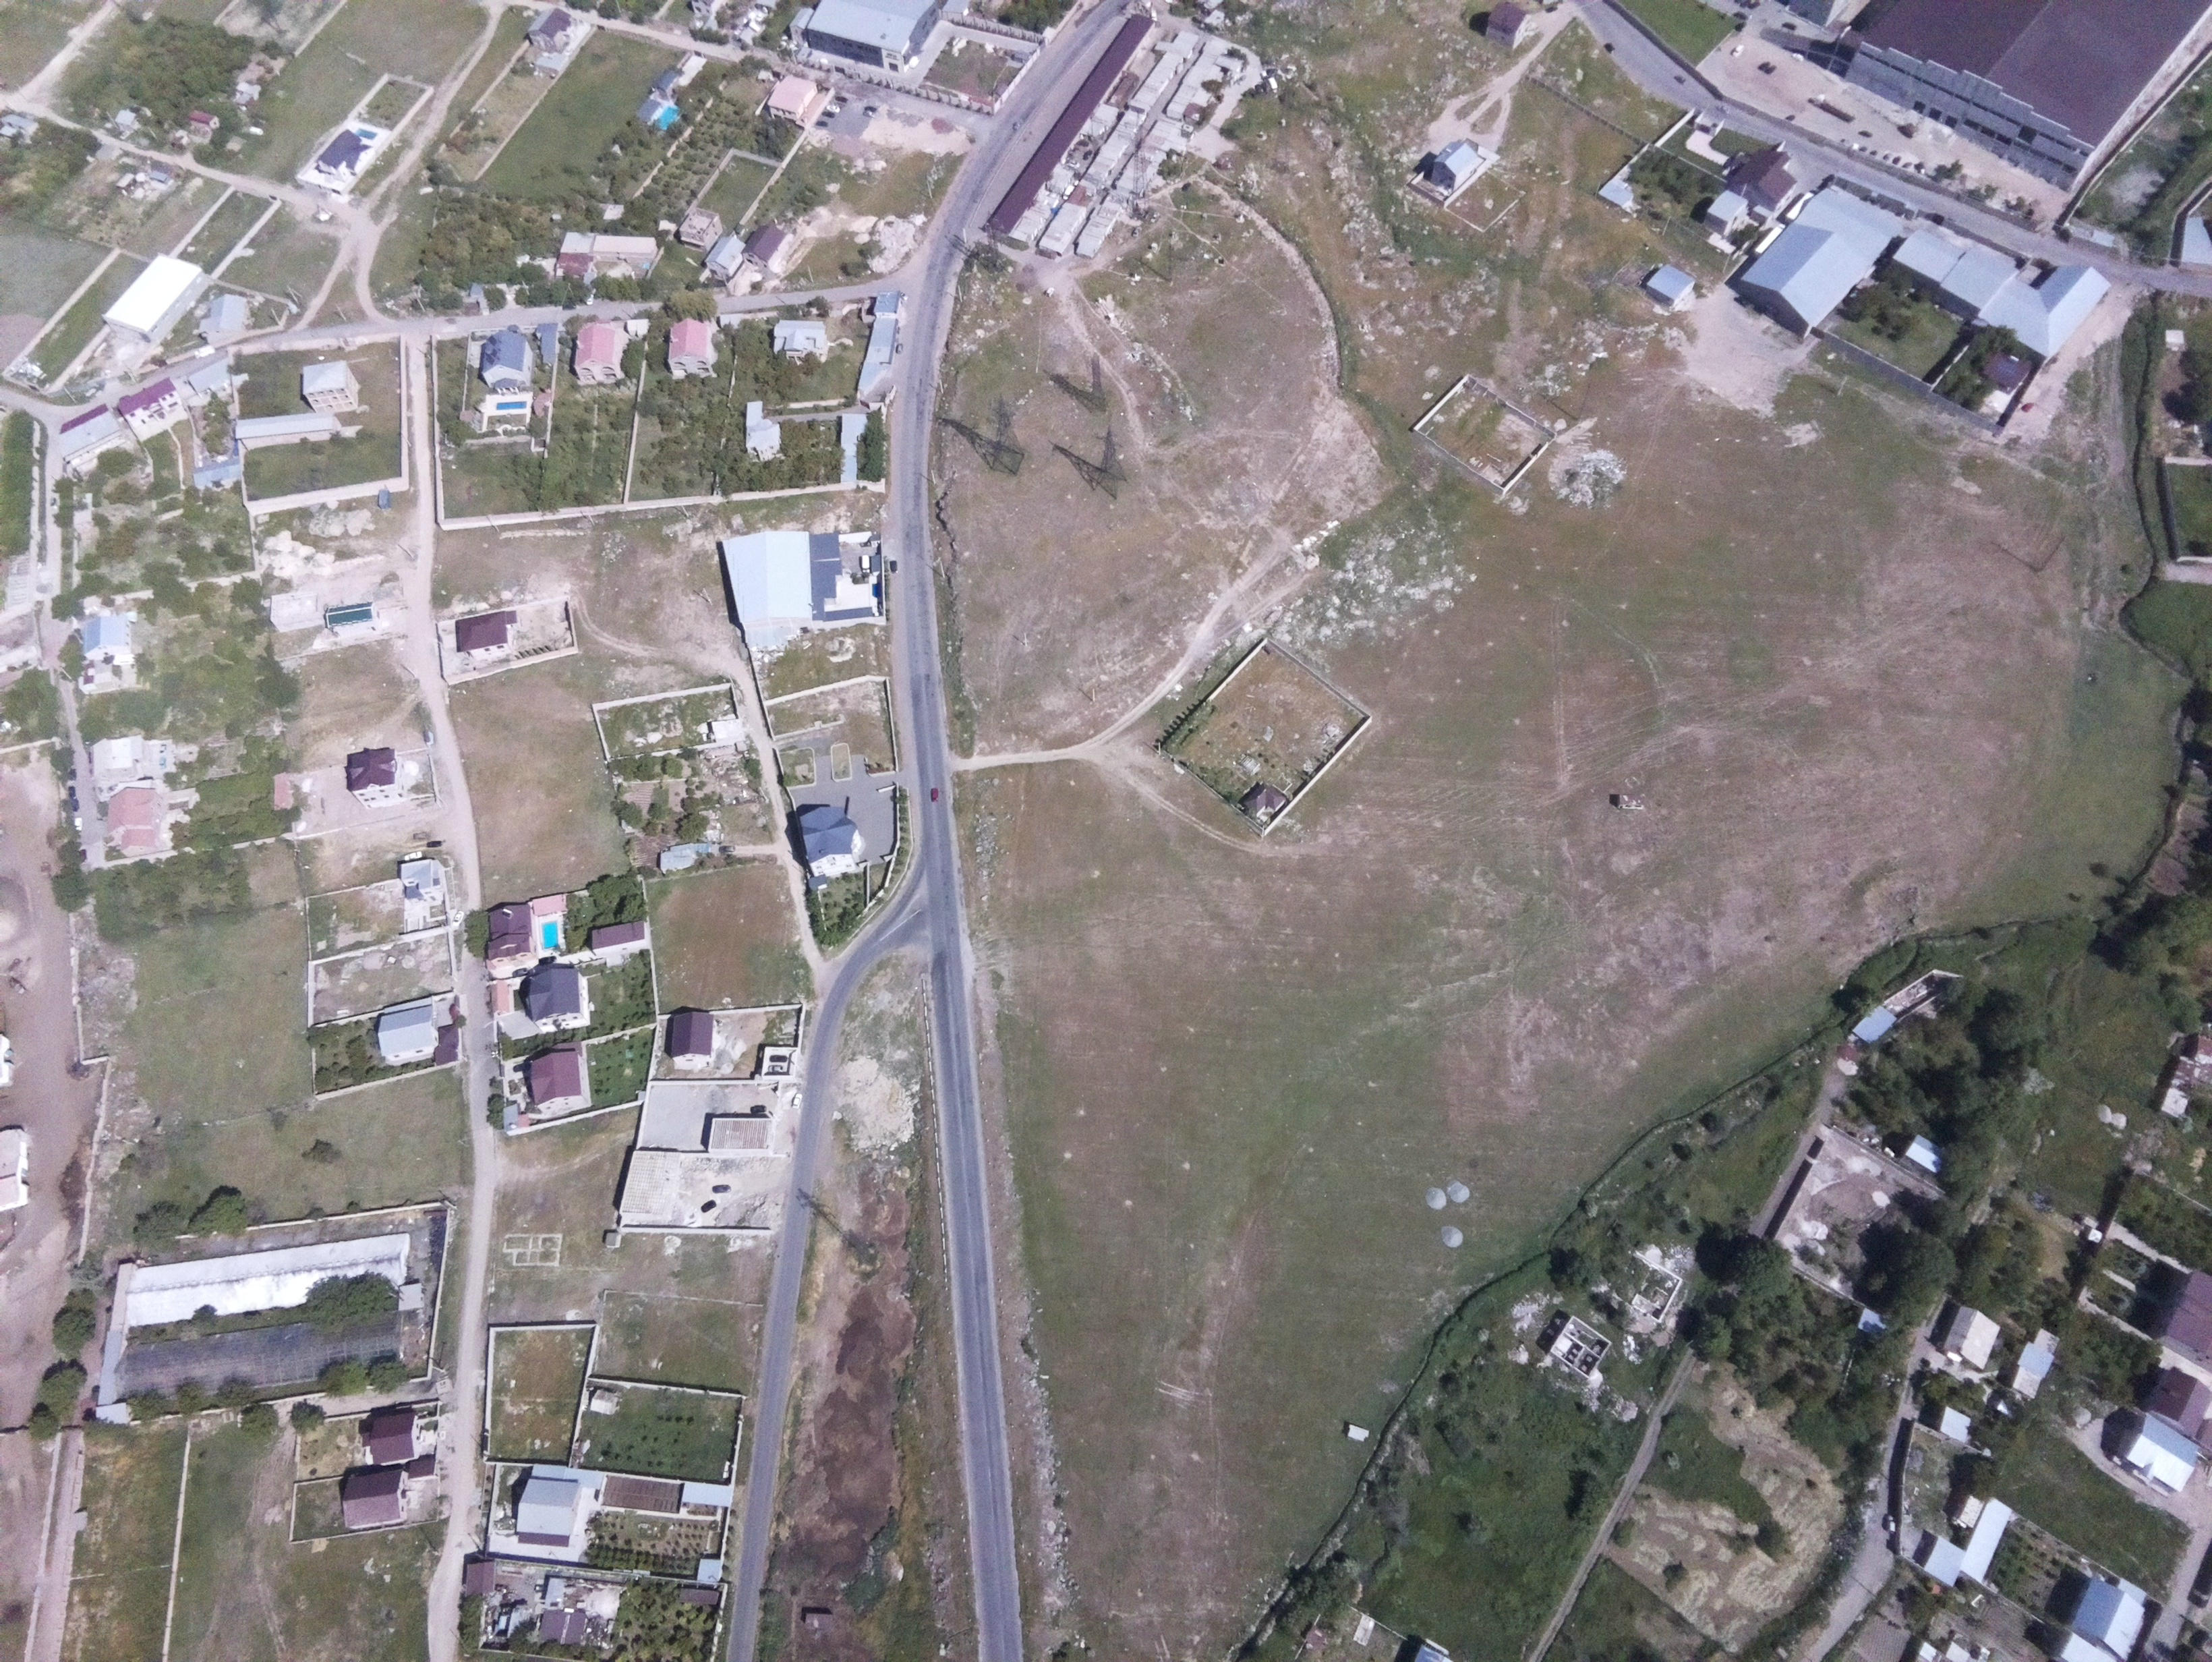car: (857, 552, 876, 578), (789, 1089, 807, 1114), (1728, 40, 1749, 59), (822, 98, 845, 115), (709, 1182, 735, 1196), (398, 847, 424, 861), (927, 784, 943, 807), (768, 1060, 789, 1075)
